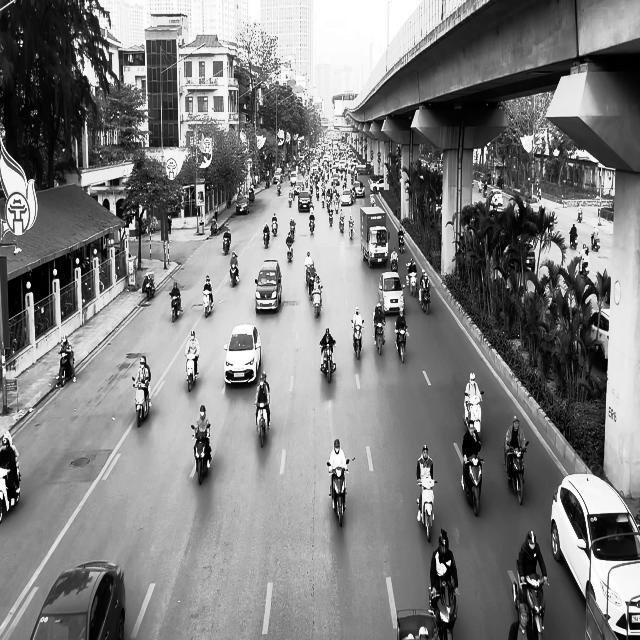car: (550, 470, 640, 639), (30, 560, 126, 639), (223, 323, 261, 386), (254, 259, 282, 313), (378, 270, 405, 314), (236, 195, 250, 214)
motorbike: (508, 568, 548, 639), (326, 457, 354, 527), (428, 582, 458, 639), (503, 440, 528, 505), (460, 452, 484, 516), (416, 478, 437, 542), (191, 423, 212, 485), (0, 463, 21, 523), (463, 390, 484, 441), (132, 375, 151, 427), (55, 350, 76, 388), (255, 402, 270, 448), (320, 340, 336, 383), (351, 319, 364, 360), (394, 326, 408, 364), (185, 354, 198, 392), (374, 320, 385, 356), (418, 286, 431, 314), (311, 286, 322, 317), (143, 272, 155, 300), (203, 288, 213, 318), (170, 294, 180, 322), (229, 264, 239, 287), (286, 237, 294, 261), (222, 234, 231, 255), (591, 232, 600, 252), (569, 231, 578, 250), (398, 232, 404, 254), (390, 256, 398, 272), (263, 230, 270, 248), (308, 213, 314, 234), (349, 221, 355, 239), (272, 219, 278, 236)
truck: (360, 205, 389, 268)
